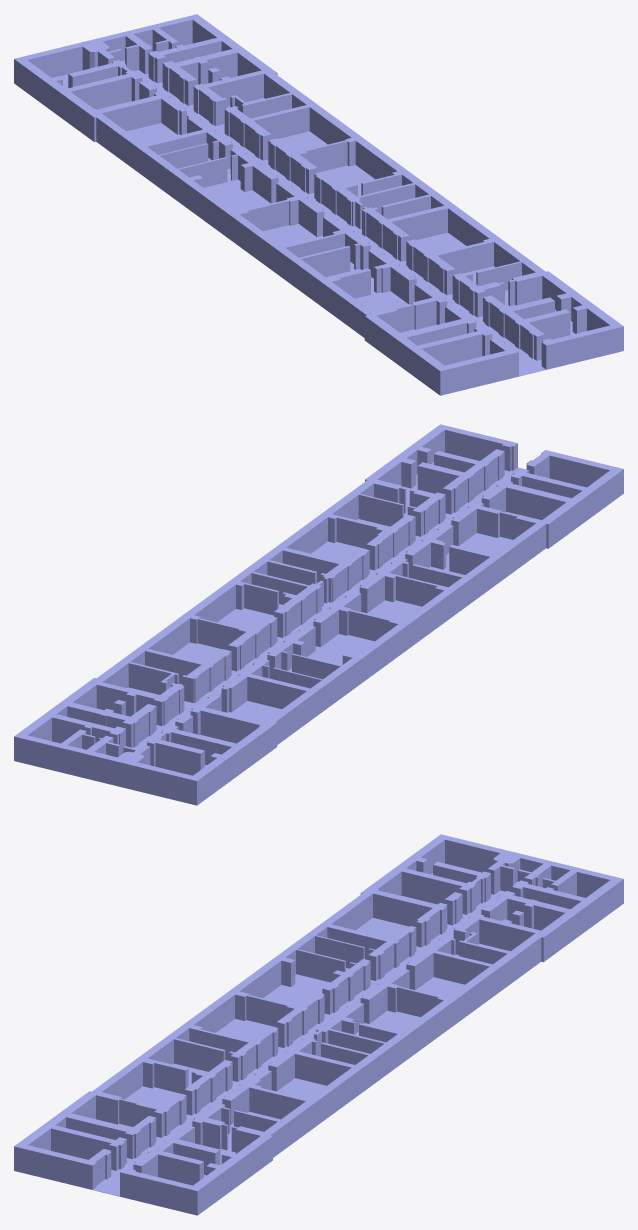
Rendered from 3CampusCasing2F.glb.
3 renders of one model, top to bottom at view 1: azimuth 30°, elevation 25°; view 2: azimuth 150°, elevation 25°; view 3: azimuth 330°, elevation 25°, orthographic.
Parts seen in each view (by area): view 1: Floor_2; view 2: Floor_2; view 3: Floor_2.
Boxes of the visible parts, box(x1,y1,x2,y2) form: Floor_2: box(14, 14, 623, 395); Floor_2: box(14, 424, 623, 805); Floor_2: box(14, 834, 623, 1215).
Size of the model in its own units: 0.6761 by 0.0993 by 2.73.
